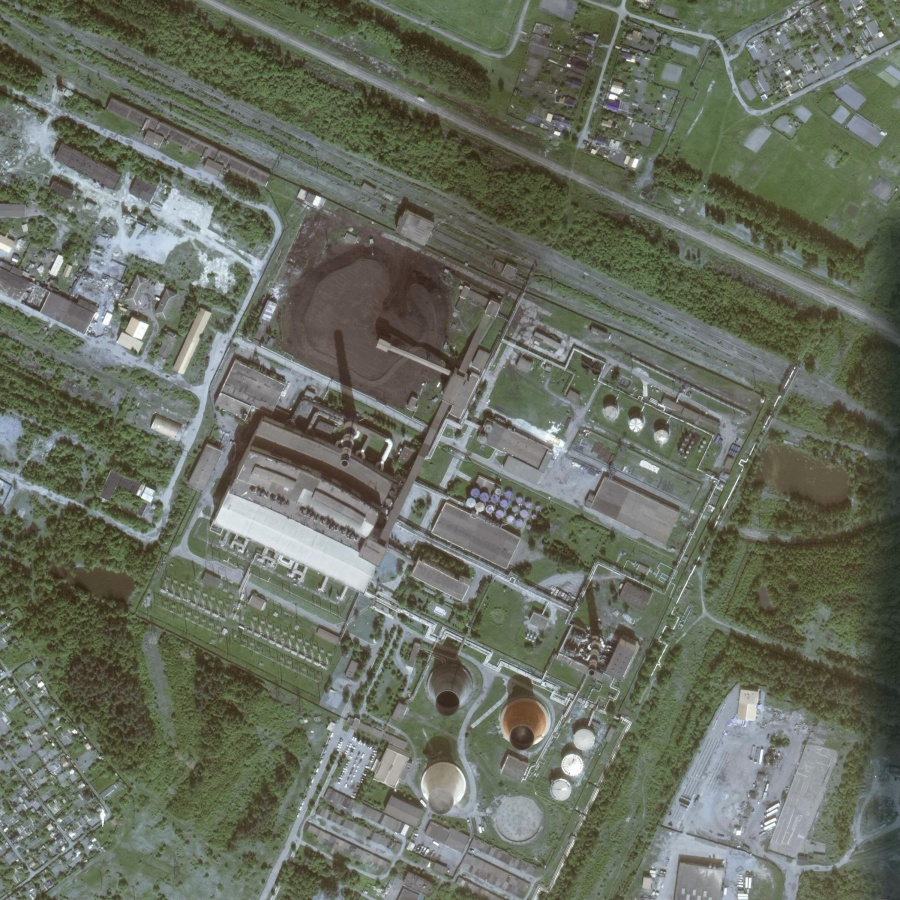PowerPlant: (206, 227, 671, 829)
